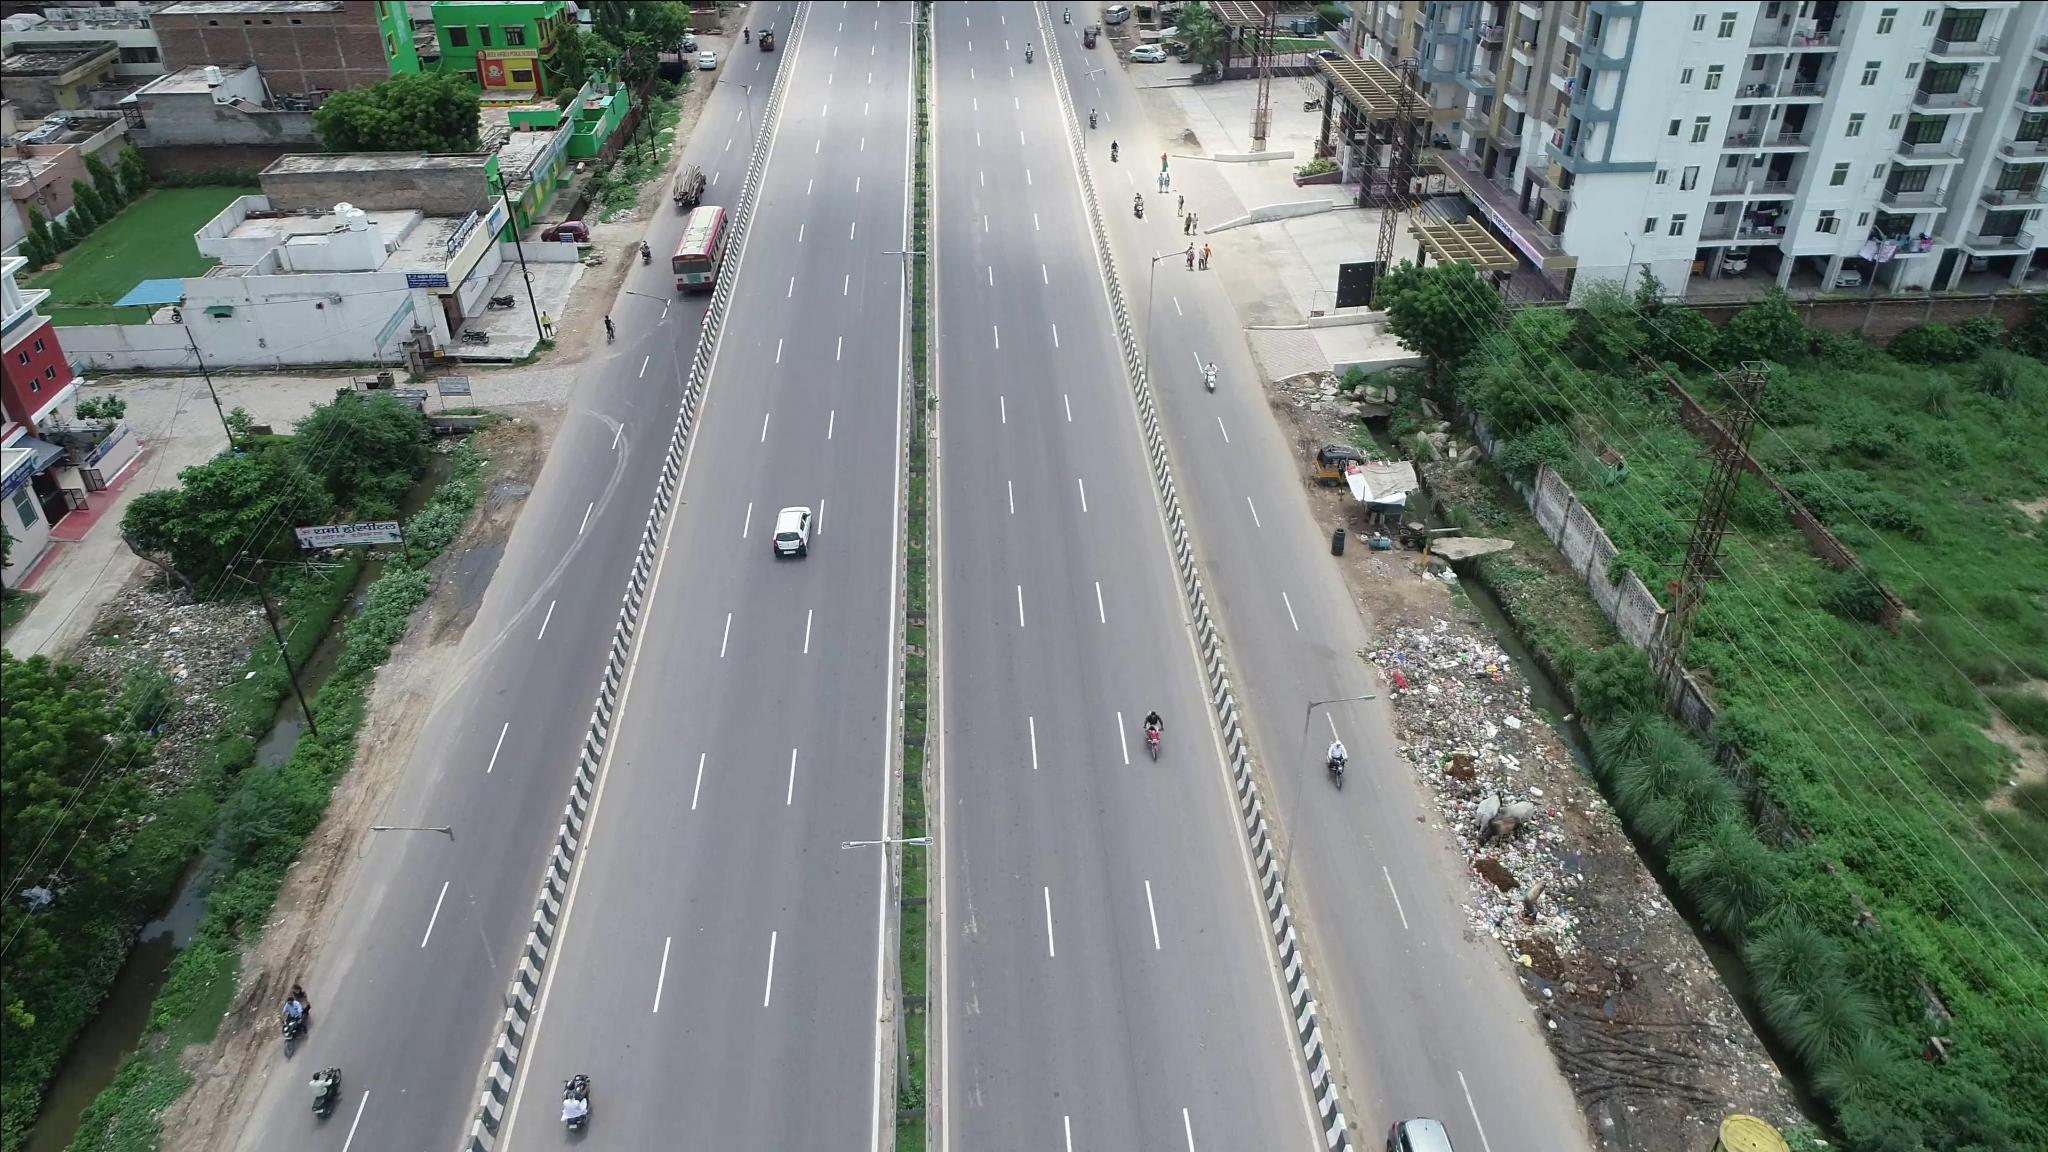Road_side_garbage: (1407, 654, 1567, 916)
